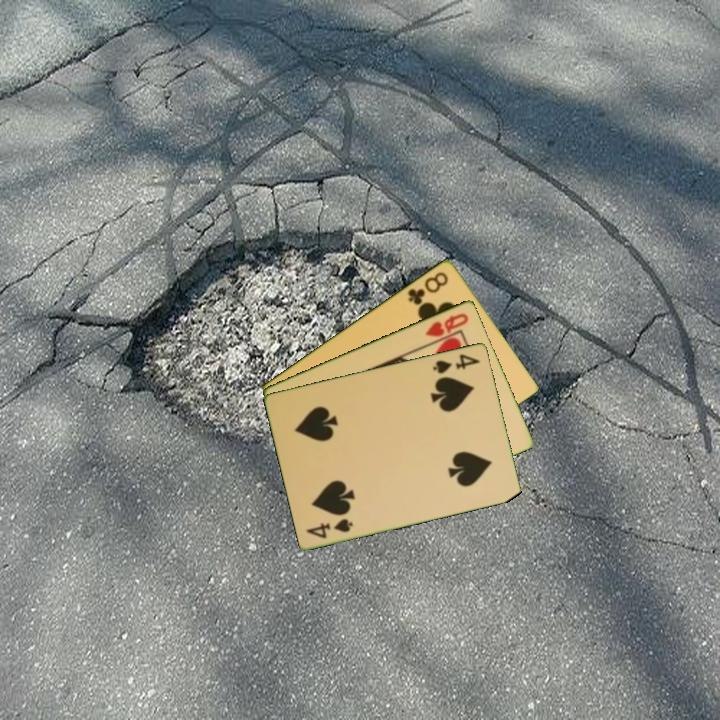4s: (429, 350, 483, 376), (303, 515, 356, 541)
8c: (404, 268, 451, 308)
Qh: (422, 309, 472, 340)
